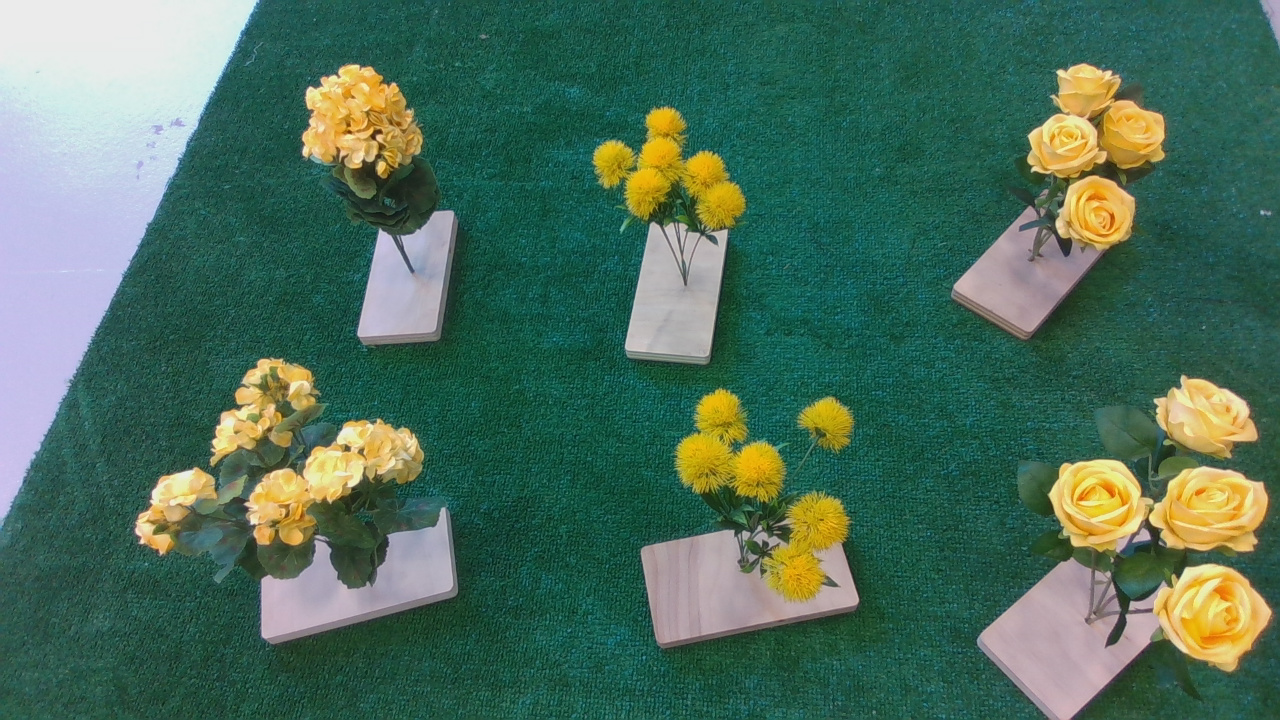dandelion: (673, 396, 863, 609), (586, 108, 758, 249)
geranium: (132, 358, 448, 586), (295, 65, 450, 237)
rose: (1015, 376, 1280, 705), (1006, 56, 1179, 267)
